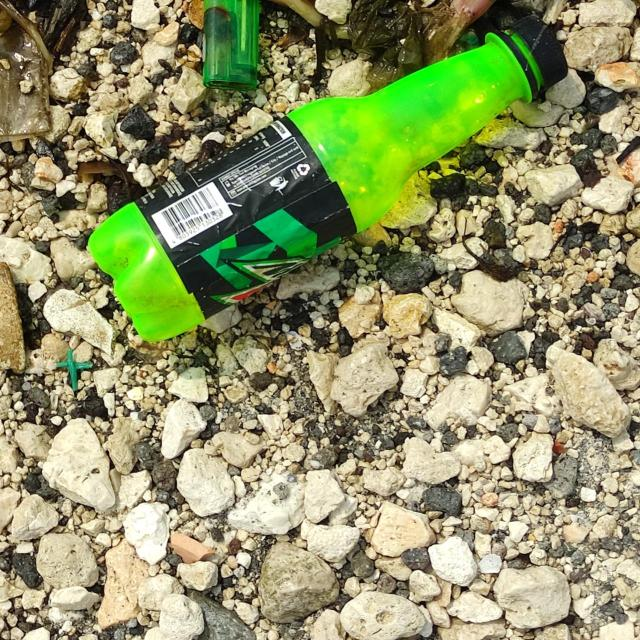plastic_waste: (86, 16, 570, 346)
